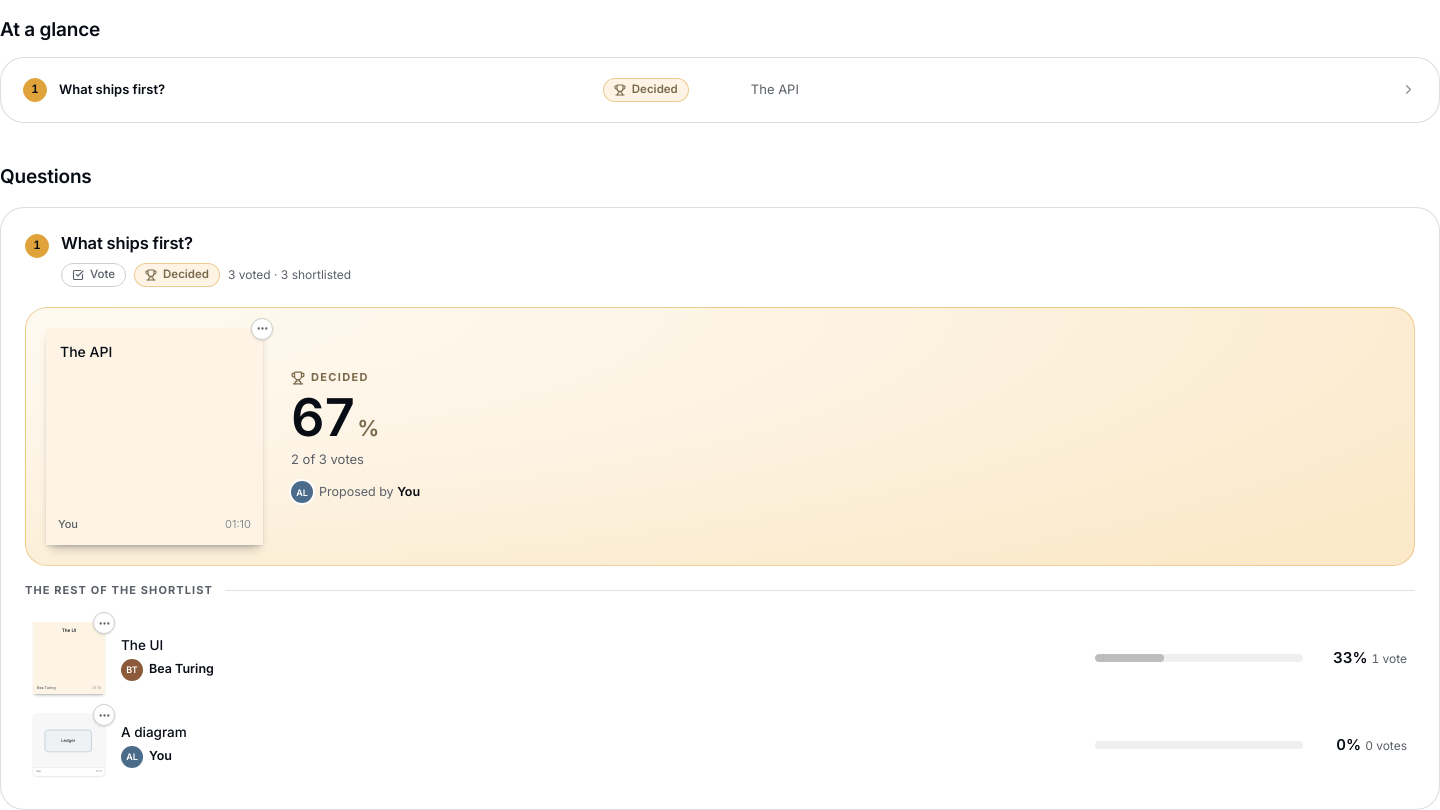
Test: SessionSummaryView card actions › enlarges a ranked card from its menu, and comes back to the menu
(page scrolled)
Click the button named "Actions: The UI" at (104, 623), box [93,612,115,634]
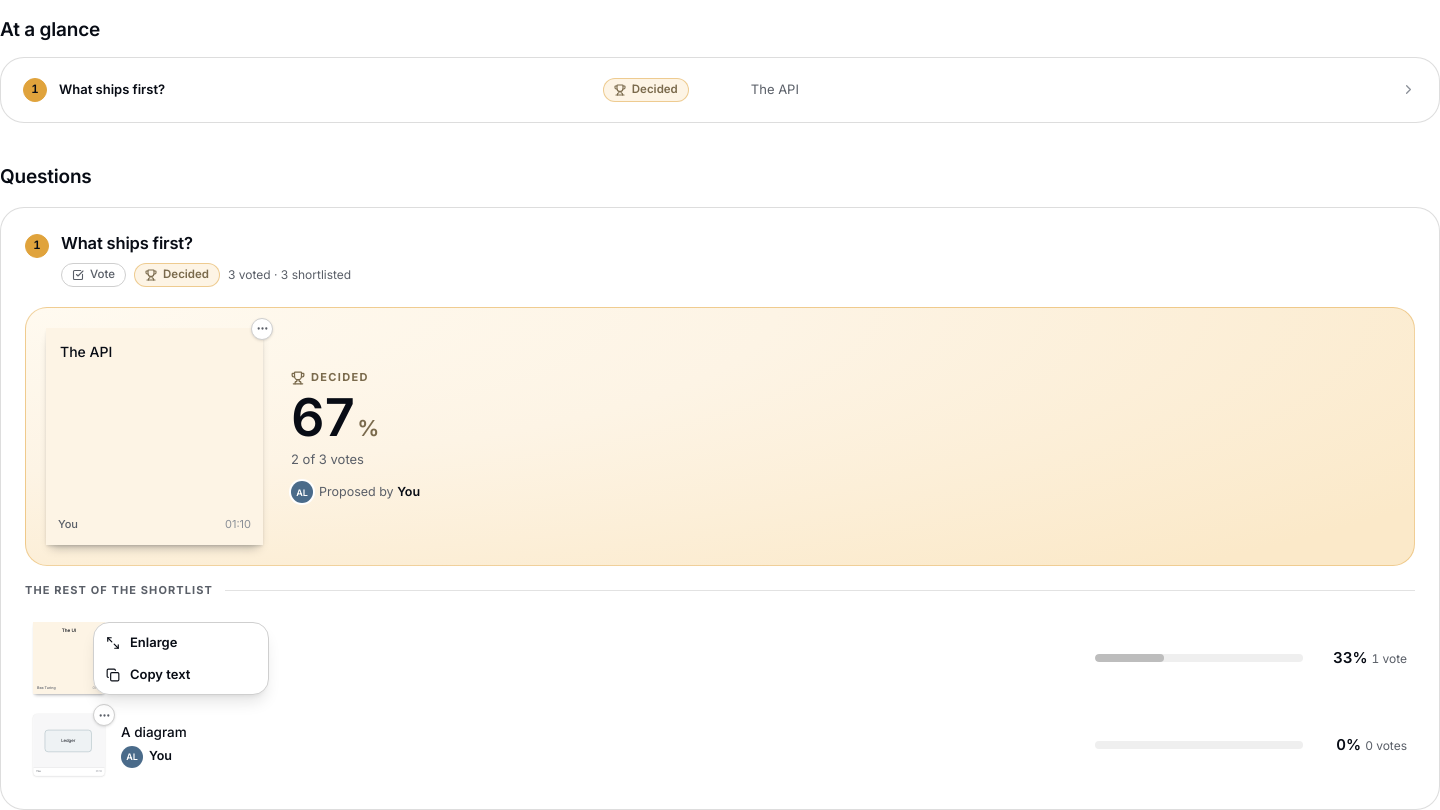
Click the menu item "Enlarge" at (181, 643), box [94,627,268,659]
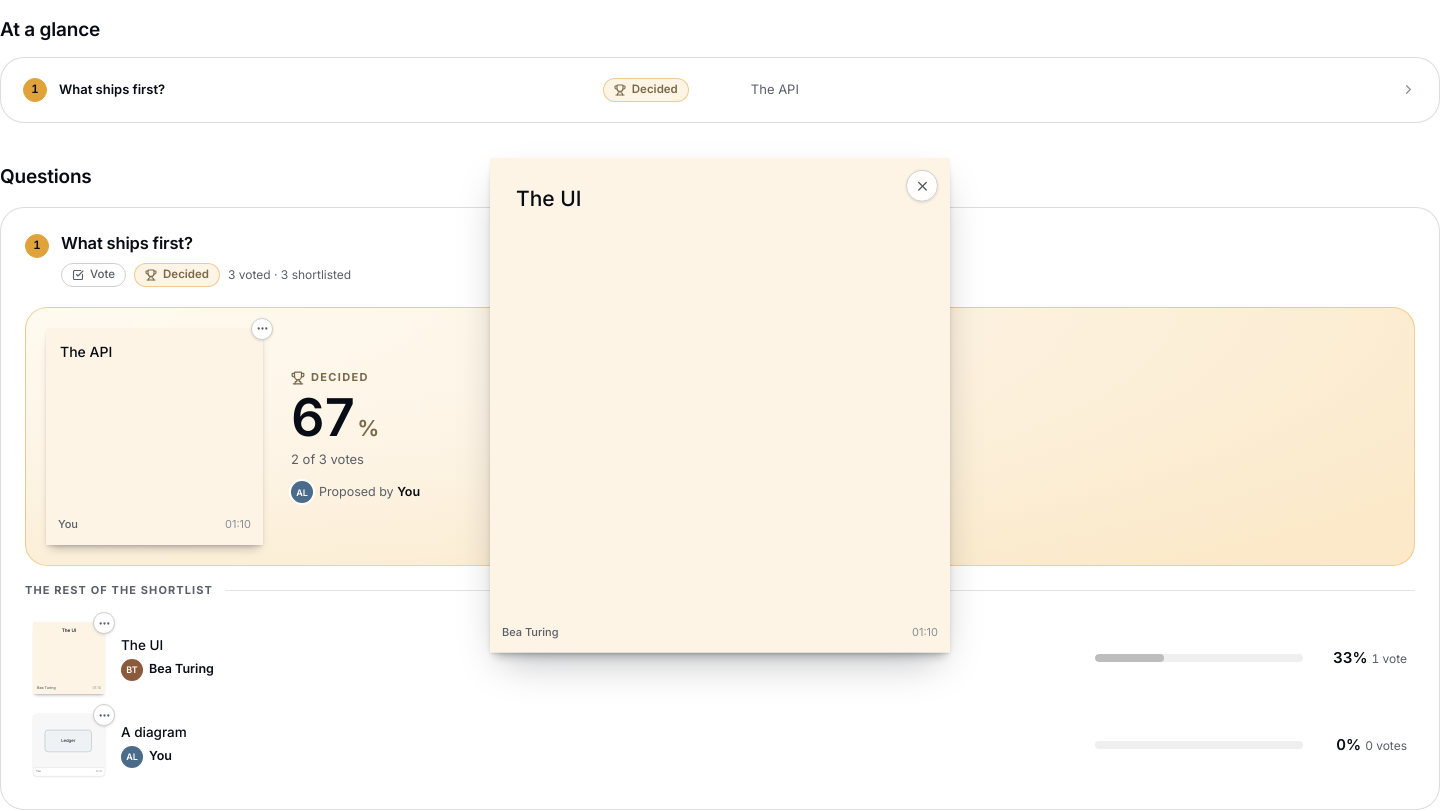
Check: the dialog is shown, box [490,158,950,652]
Press Escape
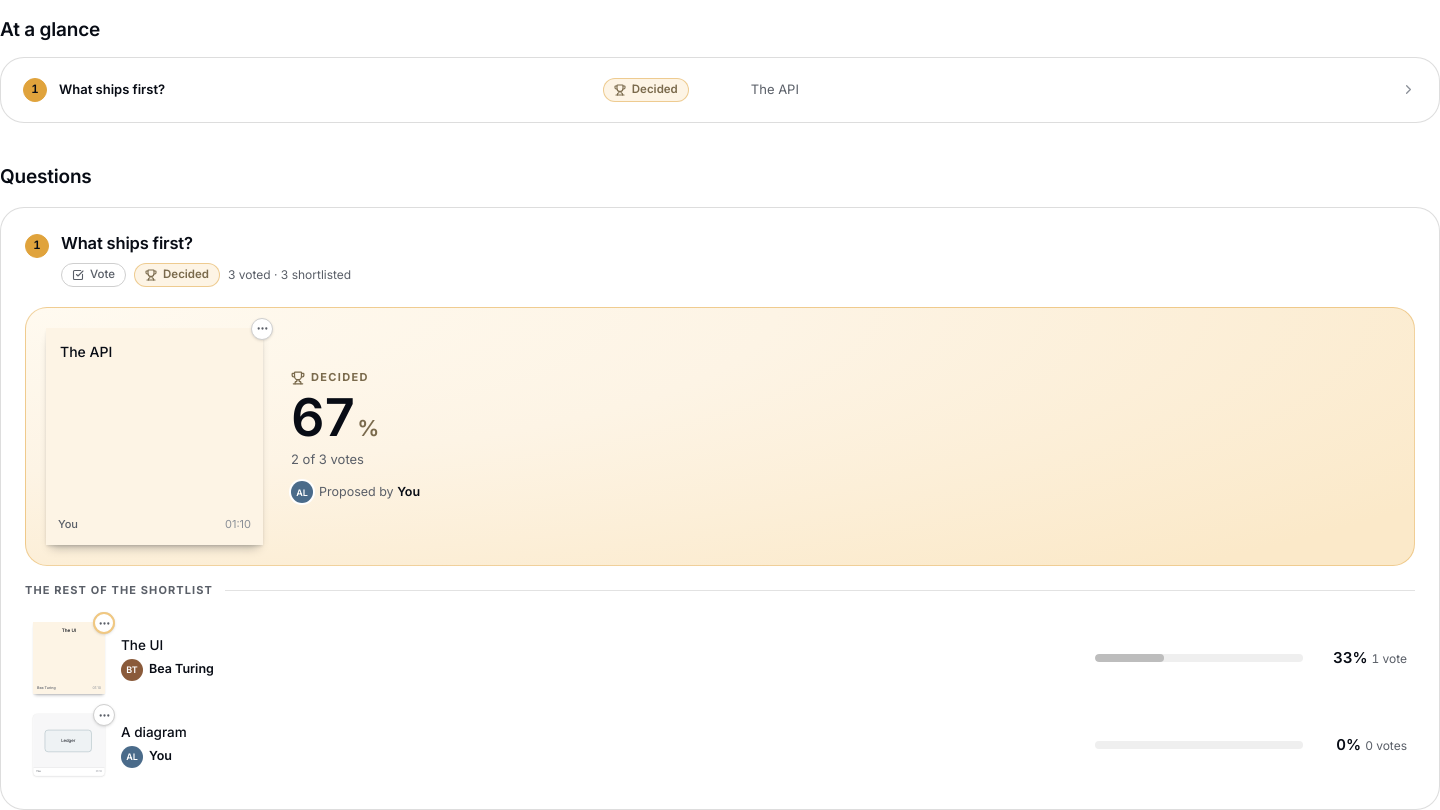
Check: the dialog is gone
